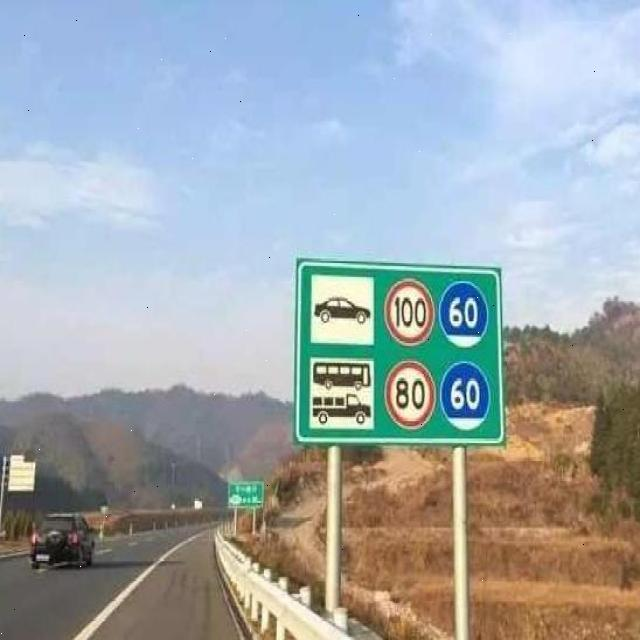speed limit 100: (382, 278, 436, 346)
speed limit 60: (441, 358, 492, 431), (440, 280, 489, 349)
speed limit 80: (384, 357, 437, 433)
